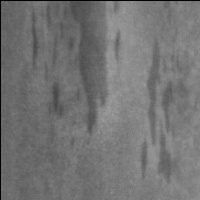inclusion: (59, 1, 125, 139), (138, 29, 190, 188), (29, 1, 75, 82), (44, 79, 68, 122)
